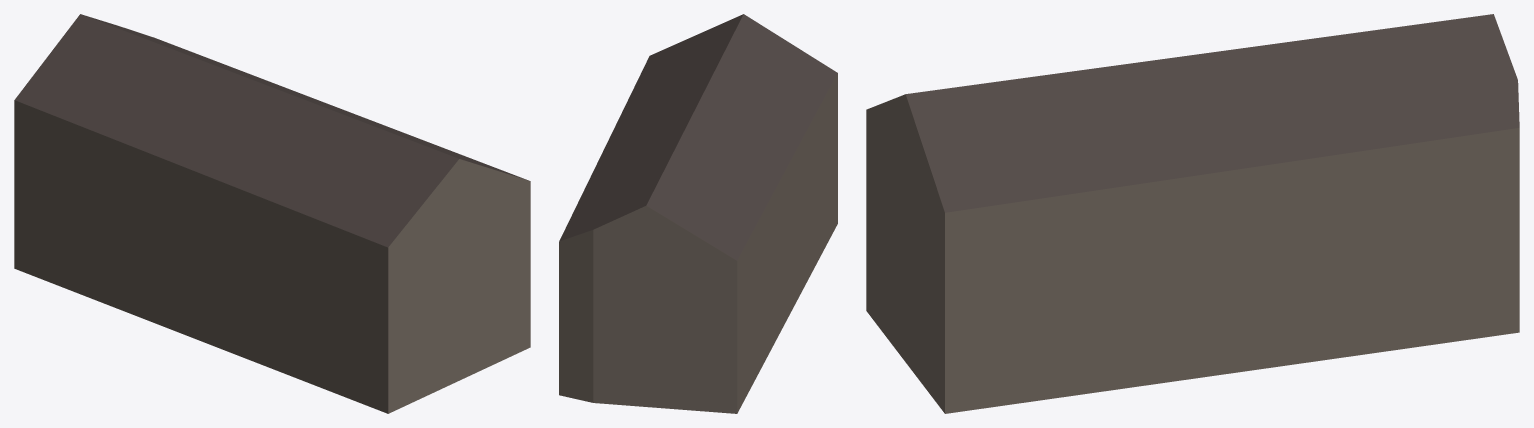
The picture shows the model from 3 angles, left to right: view 1: azimuth 30°, elevation 25°; view 2: azimuth 150°, elevation 25°; view 3: azimuth 270°, elevation 25°; orthographic projection. The views are drawn at different scales.
Parts seen in each view (by area): view 1: HP-w1516161917; view 2: HP-w1516161917; view 3: HP-w1516161917.
Part boxes in pixels (x1,y1,x2,y2): HP-w1516161917: (14, 14, 530, 413); HP-w1516161917: (559, 14, 837, 413); HP-w1516161917: (866, 14, 1519, 413).
Size of the model in its own units: 17.34 by 12 by 26.5.
